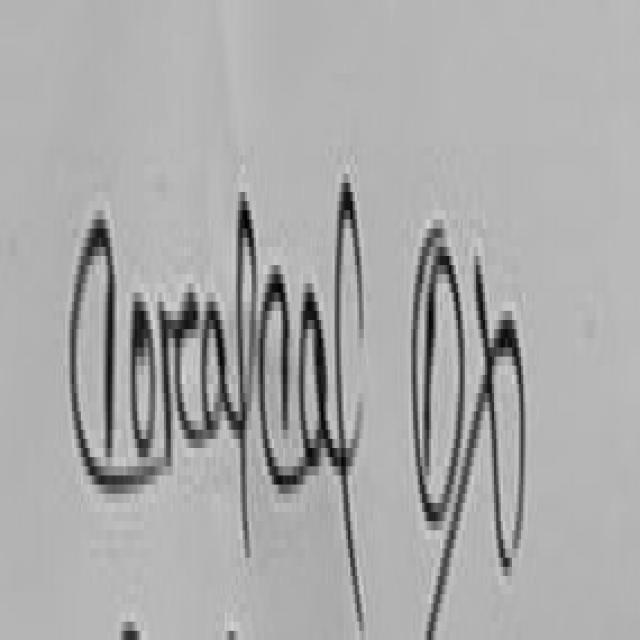C: (70, 219, 143, 503)
D: (422, 237, 467, 523)
X: (426, 247, 527, 638)
a: (299, 289, 341, 462), (200, 298, 243, 439)
c: (260, 265, 311, 489)
l: (329, 169, 363, 610), (238, 192, 258, 553)
o: (132, 302, 155, 453)
r: (159, 293, 207, 462)
